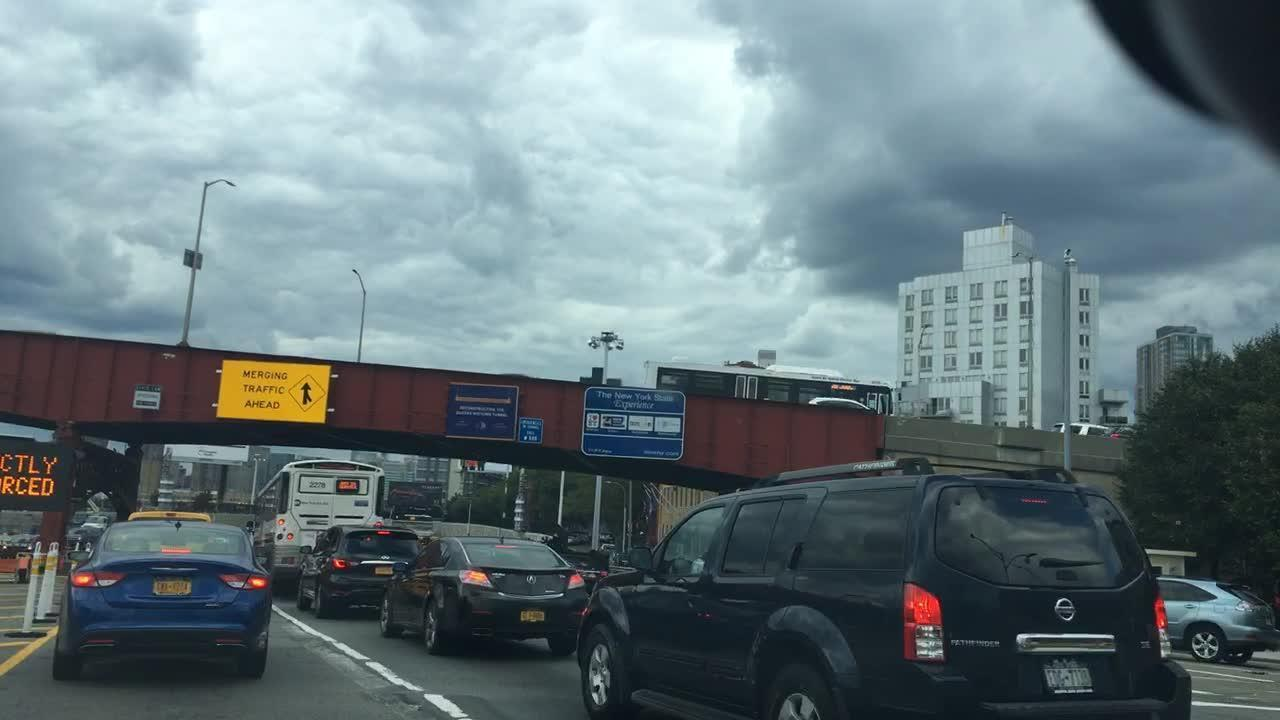Chrysler: (146, 557, 203, 581)
Nissan: (1038, 585, 1088, 628)
acura: (525, 574, 538, 585)
